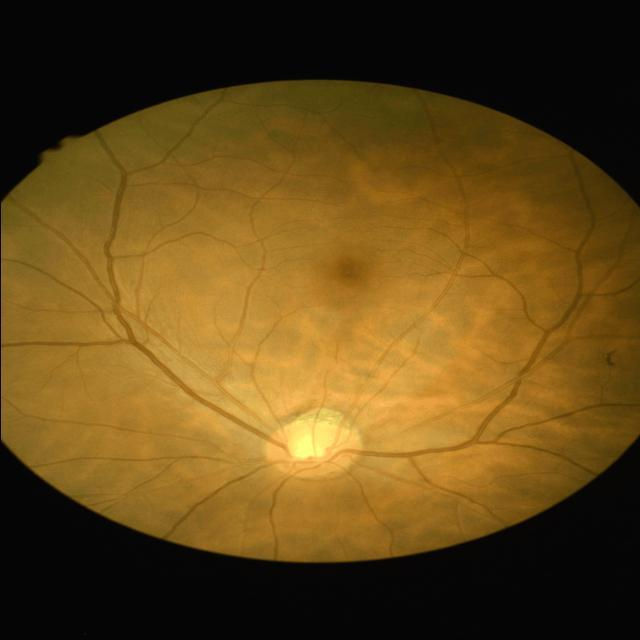cup: (288, 436, 342, 464)
disk: (263, 420, 362, 478)
